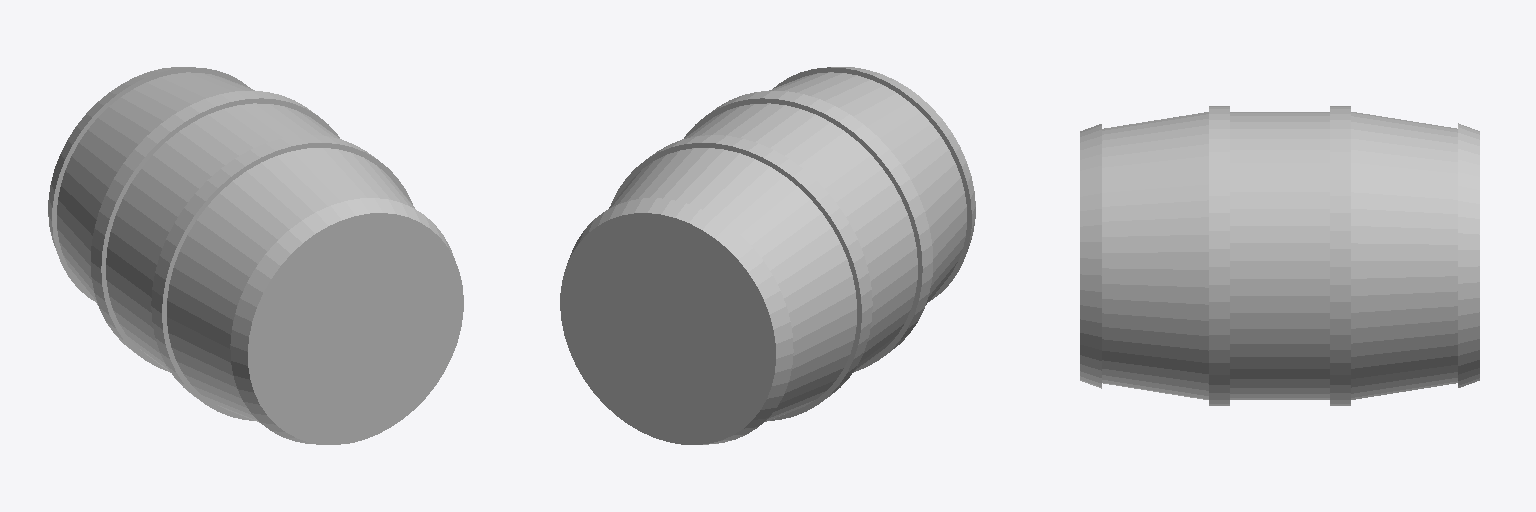
The model's file is testBarrel (2).obj.
The picture shows the model from 3 angles: view 1: azimuth 30°, elevation 25°; view 2: azimuth 150°, elevation 25°; view 3: azimuth 270°, elevation 25°; orthographic projection.
Parts seen in each view (by area): view 1: Barrel; view 2: Barrel; view 3: Barrel.
Part boxes in pixels (bbox=[...]): Barrel: bbox=[48, 67, 463, 444]; Barrel: bbox=[560, 67, 975, 444]; Barrel: bbox=[1080, 106, 1479, 405].
Size of the model in its own units: 5.25 by 5.25 by 7.